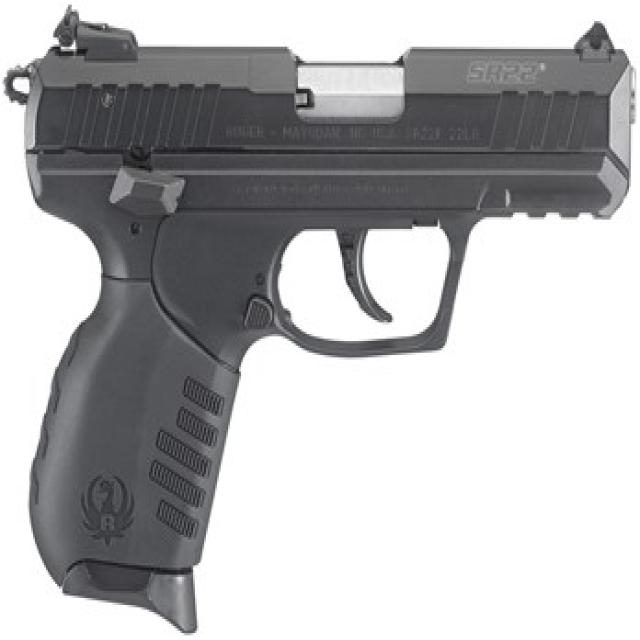HandGun: (6, 7, 640, 633)
